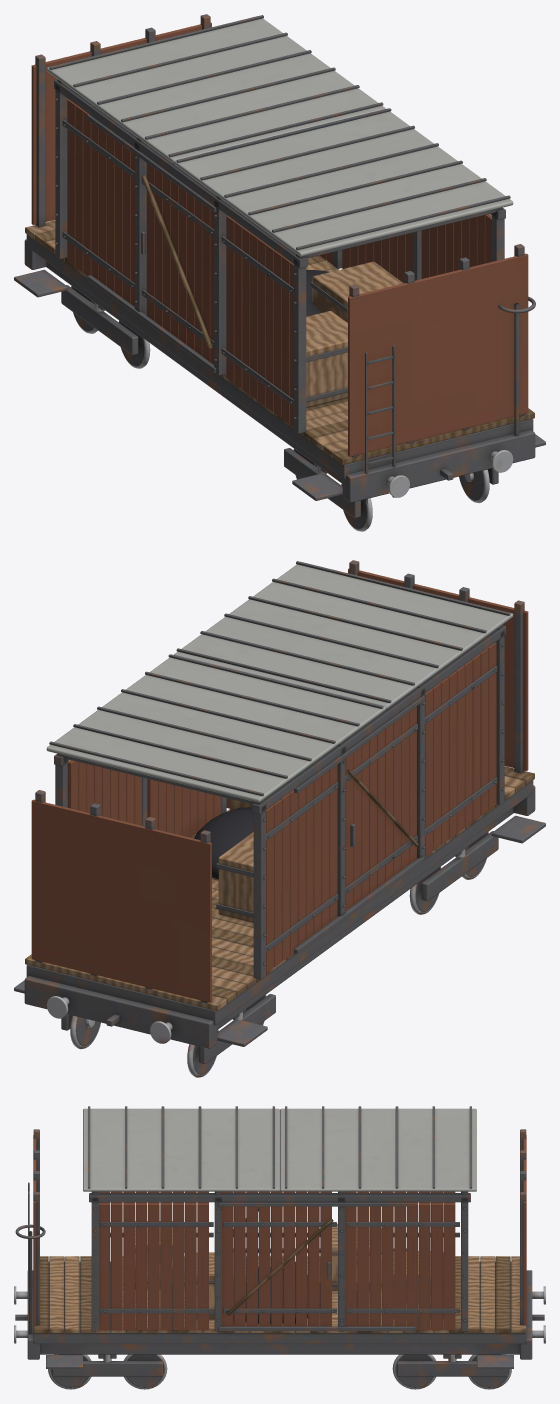
Rendered from cargo_wagon.glb.
3 renders of one model, top to bottom at view 1: azimuth 30°, elevation 25°; view 2: azimuth 150°, elevation 25°; view 3: azimuth 270°, elevation 25°, orthographic. The views are drawn at different scales.
Parts seen in each view (by area): view 1: Cargo, Panel_metal_4, Panel_metal_5, Panel_wood_0, Door_wood_0, Panel_wood_1, Panel_wood_2, Door_wood_1, WagonWheel_5; view 2: Cargo, Panel_metal_5, Panel_metal_4, Panel_wood_0, Panel_wood_1, Door_wood_0, Panel_wood_3, Door_wood_1, WagonWheel_3; view 3: Cargo, Panel_metal_4, Panel_metal_5, Panel_wood_2, Panel_wood_3, Door_wood_1, WagonWheel_1, WagonWheel_7, WagonWheel_3, WagonWheel_5, Panel_wood_0, Panel_wood_1.
Boxes of the visible parts, x1,y1,x2,y2 form: Cargo: (14, 14, 545, 518); Panel_metal_4: (174, 108, 513, 256); Panel_metal_5: (46, 15, 385, 163); Panel_wood_0: (221, 215, 293, 426); Door_wood_0: (141, 163, 214, 364); Panel_wood_1: (62, 99, 134, 306); Panel_wood_2: (421, 214, 491, 278); Door_wood_1: (342, 233, 412, 282); WagonWheel_5: (459, 469, 489, 503); Cargo: (14, 560, 545, 1064); Panel_metal_5: (46, 654, 385, 802); Panel_metal_4: (174, 561, 513, 709); Panel_wood_0: (425, 642, 497, 856); Panel_wood_1: (266, 764, 338, 972); Door_wood_0: (345, 706, 418, 910); Panel_wood_3: (68, 760, 141, 825); Door_wood_1: (147, 779, 221, 837); WagonWheel_3: (70, 1015, 100, 1049); Cargo: (14, 1129, 545, 1376); Panel_metal_4: (83, 1106, 279, 1191); Panel_metal_5: (280, 1106, 476, 1191); Panel_wood_2: (99, 1203, 213, 1330); Panel_wood_3: (345, 1203, 459, 1330); Door_wood_1: (222, 1206, 336, 1326); WagonWheel_1: (392, 1354, 436, 1389); WagonWheel_7: (123, 1354, 167, 1389); WagonWheel_3: (468, 1354, 511, 1389); WagonWheel_5: (48, 1354, 91, 1389); Panel_wood_0: (99, 1191, 213, 1237); Panel_wood_1: (345, 1191, 459, 1237).
Size of the model in its own units: 3.35 by 3.96 by 8.64.
Materials: 7 (7 with a texture image).
